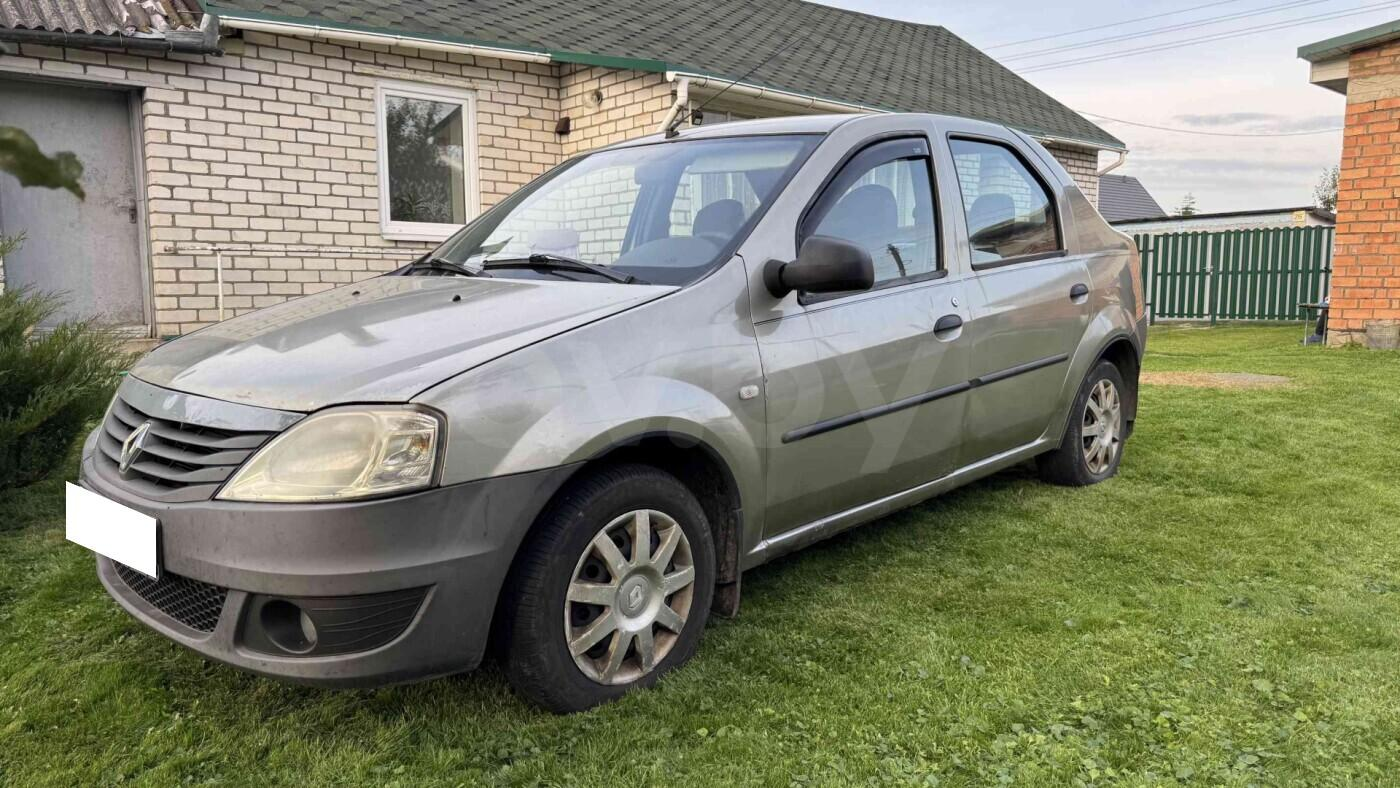Logan_2008-2015: (62, 100, 1147, 717)
